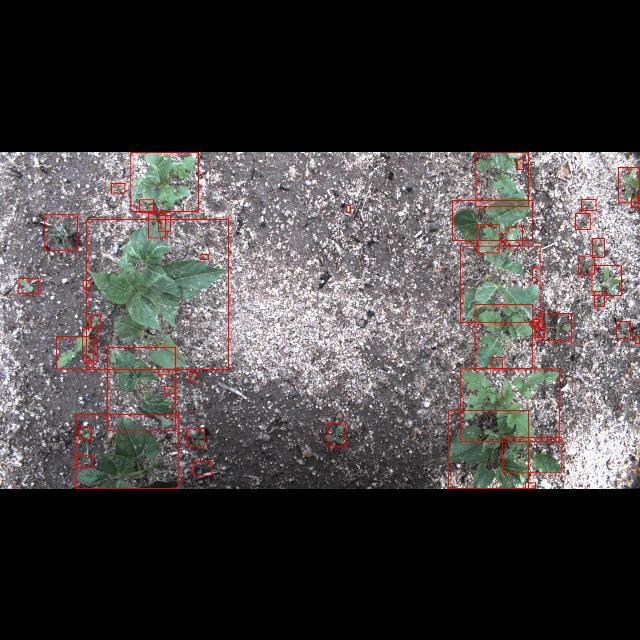crop: (87, 219, 229, 369), (75, 414, 178, 488), (449, 409, 529, 488), (460, 245, 540, 322), (107, 346, 175, 429), (131, 152, 199, 210), (452, 199, 532, 239)
weed: (460, 368, 560, 442), (475, 304, 533, 368), (476, 152, 528, 206), (502, 437, 562, 473), (44, 214, 78, 250), (56, 336, 94, 368), (538, 312, 572, 340), (592, 265, 622, 295), (618, 166, 640, 202), (476, 224, 499, 252), (82, 328, 98, 360), (148, 212, 166, 238), (328, 422, 346, 446), (187, 428, 205, 446), (579, 255, 595, 273), (506, 226, 522, 244), (19, 278, 39, 292), (193, 461, 211, 475), (616, 320, 630, 338), (576, 212, 590, 228), (592, 238, 604, 256), (139, 198, 153, 212), (158, 214, 170, 230), (78, 426, 92, 439), (78, 455, 92, 467), (582, 198, 596, 210), (594, 290, 604, 306), (111, 183, 125, 193), (491, 357, 503, 368), (92, 314, 100, 328), (535, 327, 545, 337), (164, 386, 176, 394), (532, 268, 540, 280), (516, 158, 524, 168), (534, 319, 542, 327), (83, 279, 91, 287), (525, 482, 535, 488), (632, 196, 638, 206), (190, 372, 197, 380), (158, 370, 168, 374), (200, 254, 208, 258), (346, 204, 350, 212), (635, 336, 639, 342)
